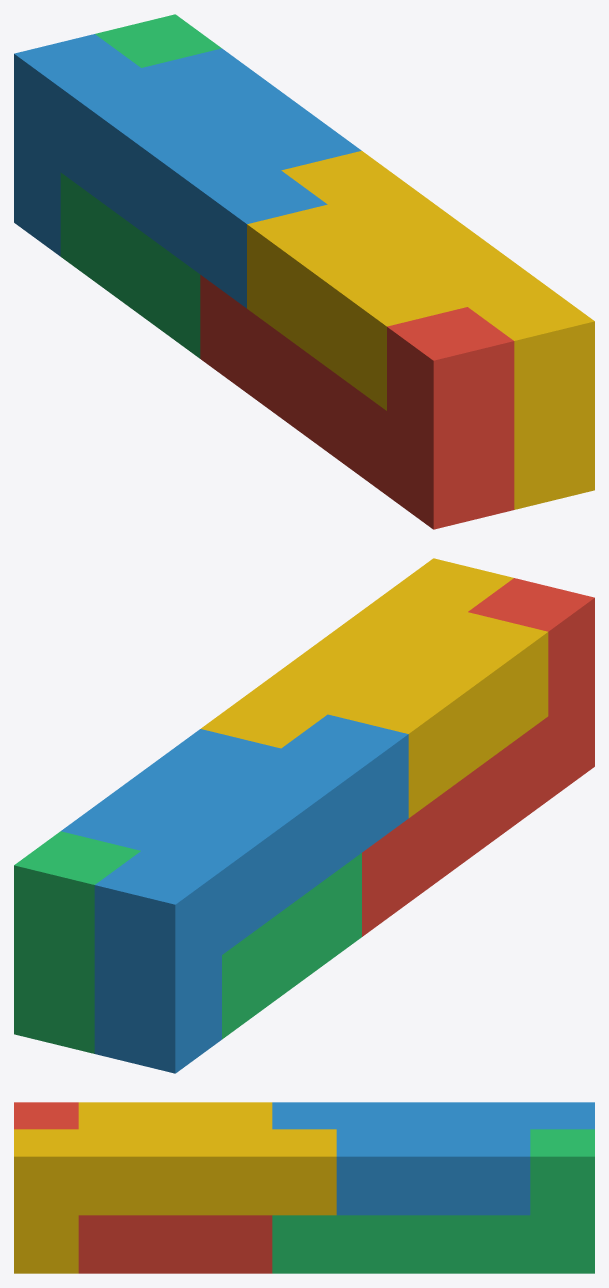
Rendered from tiling.obj.
3 renders of one model, top to bottom at view 1: azimuth 30°, elevation 25°; view 2: azimuth 150°, elevation 25°; view 3: azimuth 270°, elevation 25°, orthographic. The views are drawn at different scales.
Visible parts, largest first — view 1: copy_4, copy_2, copy_1, copy_3; view 2: copy_2, copy_4, copy_3, copy_1; view 3: copy_4, copy_2, copy_3, copy_1.
Boxes of the visible parts, x1,y1,x2,y2 form: copy_4: (247, 151, 594, 509); copy_2: (14, 34, 361, 308); copy_1: (200, 275, 514, 529); copy_3: (60, 14, 221, 358); copy_2: (61, 714, 408, 1073); copy_4: (201, 558, 548, 817); copy_3: (14, 831, 361, 1053); copy_1: (362, 578, 594, 936); copy_4: (14, 1102, 336, 1273); copy_2: (272, 1102, 594, 1215); copy_3: (272, 1129, 594, 1273); copy_1: (14, 1102, 272, 1273).
Size of the model in its own units: 2 by 2 by 9.
